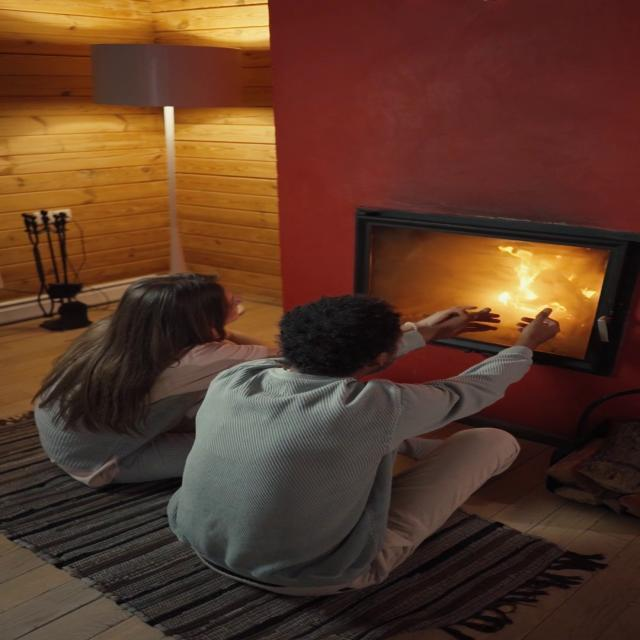Fire: (478, 246, 573, 326)
